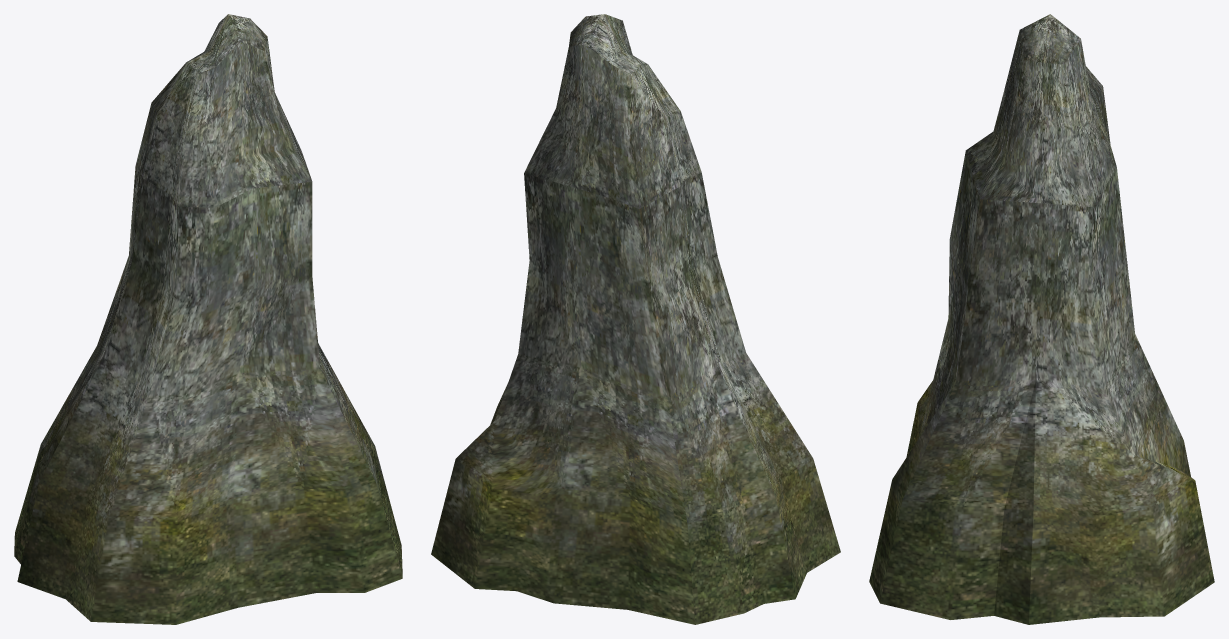
Rendered from OZ_05_nk_rock02C.glb.
3 renders of one model, left to right at view 1: azimuth 30°, elevation 25°; view 2: azimuth 150°, elevation 25°; view 3: azimuth 270°, elevation 25°, orthographic. The views are drawn at different scales.
Parts seen in each view (by area): view 1: OM_05_nk_rock02C; view 2: OM_05_nk_rock02C; view 3: OM_05_nk_rock02C.
Boxes of the visible parts, box(x1,y1,x2,y2) form: OM_05_nk_rock02C: box(14, 14, 402, 624); OM_05_nk_rock02C: box(431, 14, 840, 624); OM_05_nk_rock02C: box(869, 14, 1214, 624).
Size of the model in its own units: 4.51 by 6.77 by 3.91.
Materials: 1 (1 with a texture image).
